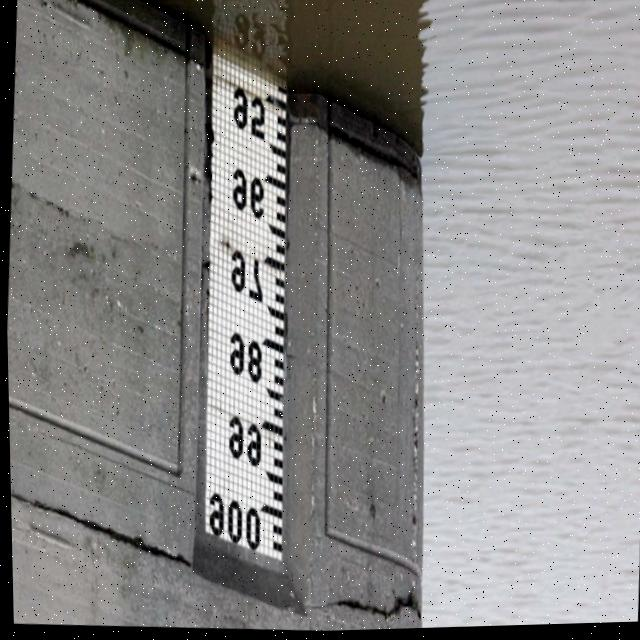water-meter: (181, 28, 315, 577)
